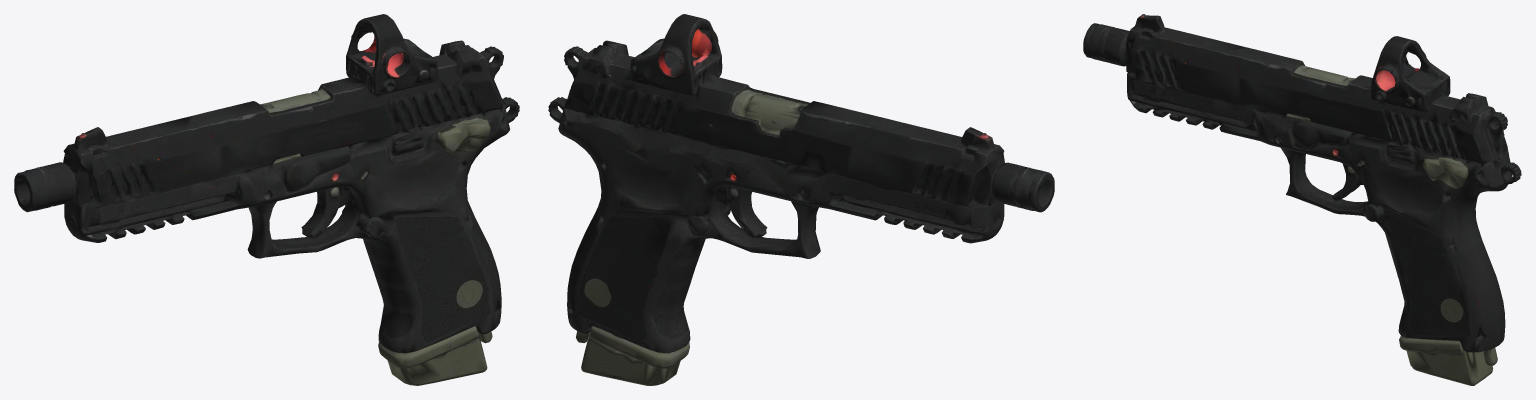
Rendered from gun_mp.glb.
3 views of the same model, side by side, from view 1: azimuth 30°, elevation 25°; view 2: azimuth 150°, elevation 25°; view 3: azimuth 330°, elevation 25° (orthographic). The views are drawn at different scales.
Bounding box in the file's own units: 1.9 × 1.36 × 0.2401.
Materials: 1 (1 with a texture image).
